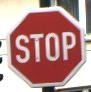Stop sign: (0, 0, 90, 91)
